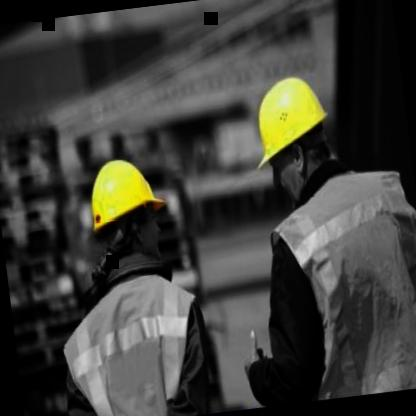helmet: (245, 60, 342, 206), (77, 148, 182, 275)
